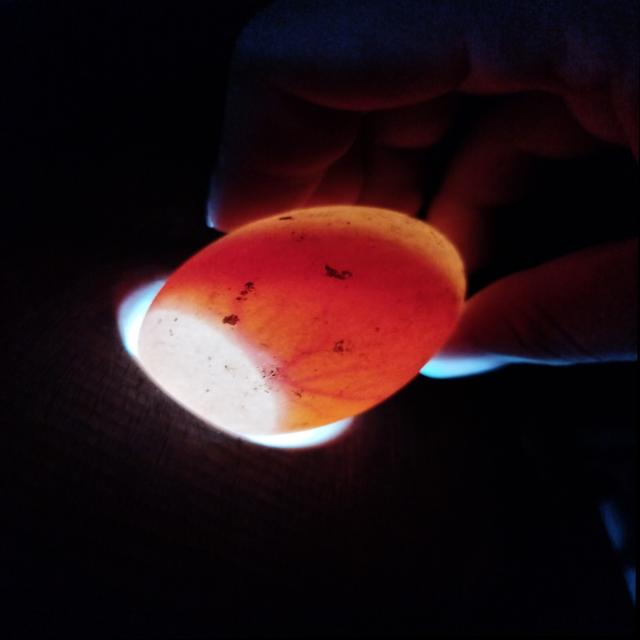Camara de Ar: (138, 301, 284, 435)
Gema Quebrada: (152, 228, 461, 432)
